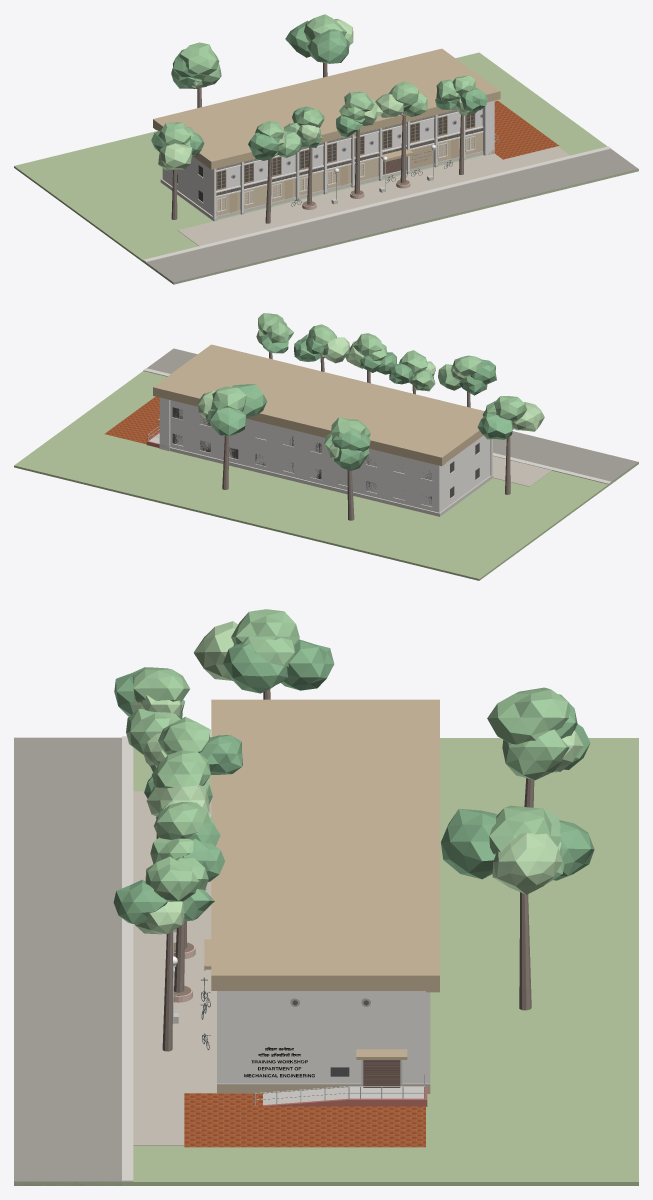
The model's file is Training_Workshop_Mech_Eng_IIT_KGP.glb.
3 views of the same model, one above another, from view 1: azimuth 30°, elevation 25°; view 2: azimuth 150°, elevation 25°; view 3: azimuth 270°, elevation 25° (orthographic). The views are drawn at different scales.
Visible parts, largest first — view 1: Site - Lawn, Site - Asphalt, Structure - Fascia ochre, Site - Forecourt, Trees - Leaf mid, Trees - Leaf dark, Facade - White concrete, Structure - White concrete, Facade - Ochre panel, Trees - Leaf light, Site - Terracotta tiles, Trees - Trunk (+8 smaller); view 2: Site - Lawn, Structure - Fascia ochre, Structure - White concrete, Trees - Leaf dark, Trees - Leaf mid, Site - Asphalt, Trees - Leaf light, Structure - Plinth grey, Site - Terracotta tiles, Trees - Trunk, Site - Forecourt, Structure - Window dark (+2 smaller); view 3: Site - Lawn, Structure - Fascia ochre, Site - Asphalt, Trees - Leaf mid, End wall - White concrete, Site - Forecourt, Trees - Leaf dark, Site - Terracotta tiles, Trees - Leaf light, Site - Kerb, Trees - Trunk, End wall - Concrete (+3 smaller).
Boxes of the visible parts, <box> form: Site - Lawn: <box>14,52,638,284</box>; Site - Asphalt: <box>146,149,638,284</box>; Structure - Fascia ochre: <box>153,48,500,169</box>; Site - Forecourt: <box>178,146,569,245</box>; Trees - Leaf mid: <box>158,14,475,157</box>; Trees - Leaf dark: <box>151,20,487,160</box>; Facade - White concrete: <box>212,109,483,215</box>; Structure - White concrete: <box>162,114,465,218</box>; Facade - Ochre panel: <box>216,132,482,215</box>; Trees - Leaf light: <box>158,19,477,170</box>; Site - Terracotta tiles: <box>494,100,559,159</box>; Trees - Trunk: <box>171,62,464,223</box>; Site - Lawn: <box>14,371,638,580</box>; Structure - Fascia ochre: <box>153,344,484,466</box>; Structure - White concrete: <box>170,400,492,512</box>; Trees - Leaf dark: <box>210,321,512,470</box>; Trees - Leaf mid: <box>205,313,526,450</box>; Site - Asphalt: <box>147,348,638,481</box>; Trees - Leaf light: <box>197,330,544,459</box>; Structure - Plinth grey: <box>169,447,493,516</box>; Site - Terracotta tiles: <box>105,396,159,444</box>; Trees - Trunk: <box>222,352,513,520</box>; Site - Forecourt: <box>493,456,551,486</box>; Structure - Window dark: <box>172,407,479,503</box>; Site - Lawn: <box>14,738,638,1185</box>; Structure - Fascia ochre: <box>211,699,439,992</box>; Site - Asphalt: <box>14,737,121,1185</box>; Trees - Leaf mid: <box>126,609,570,901</box>; End wall - White concrete: <box>217,991,430,1083</box>; Site - Forecourt: <box>133,791,216,1145</box>; Trees - Leaf dark: <box>113,639,594,923</box>; Site - Terracotta tiles: <box>184,1093,425,1147</box>; Trees - Leaf light: <box>131,621,583,934</box>; Site - Kerb: <box>122,736,133,1181</box>; Trees - Trunk: <box>156,689,534,1051</box>; End wall - Concrete: <box>263,1087,423,1104</box>.
Bounding box in the file's own units: 74 × 15.89 × 44.
Materials: 33 (4 with a texture image).
